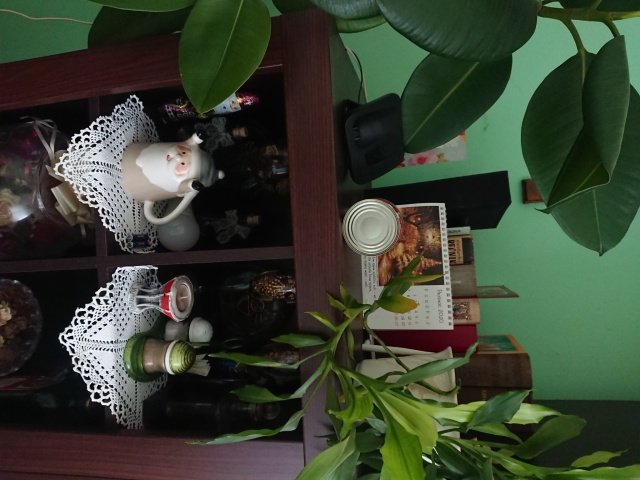Podravka Luncheon Meat 150g: (340, 195, 404, 258)
